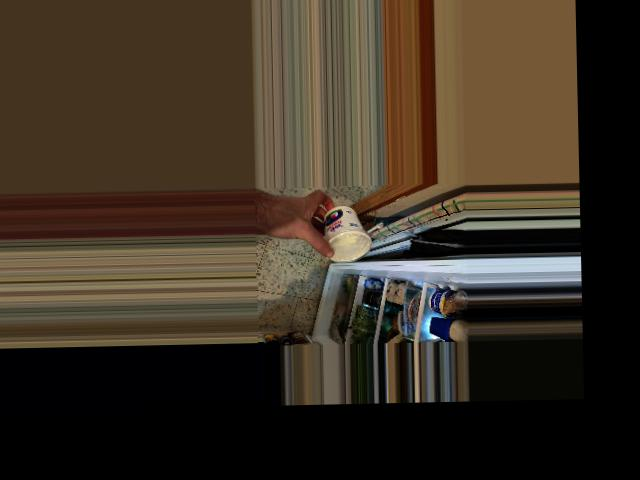cotage: (315, 206, 367, 251)
